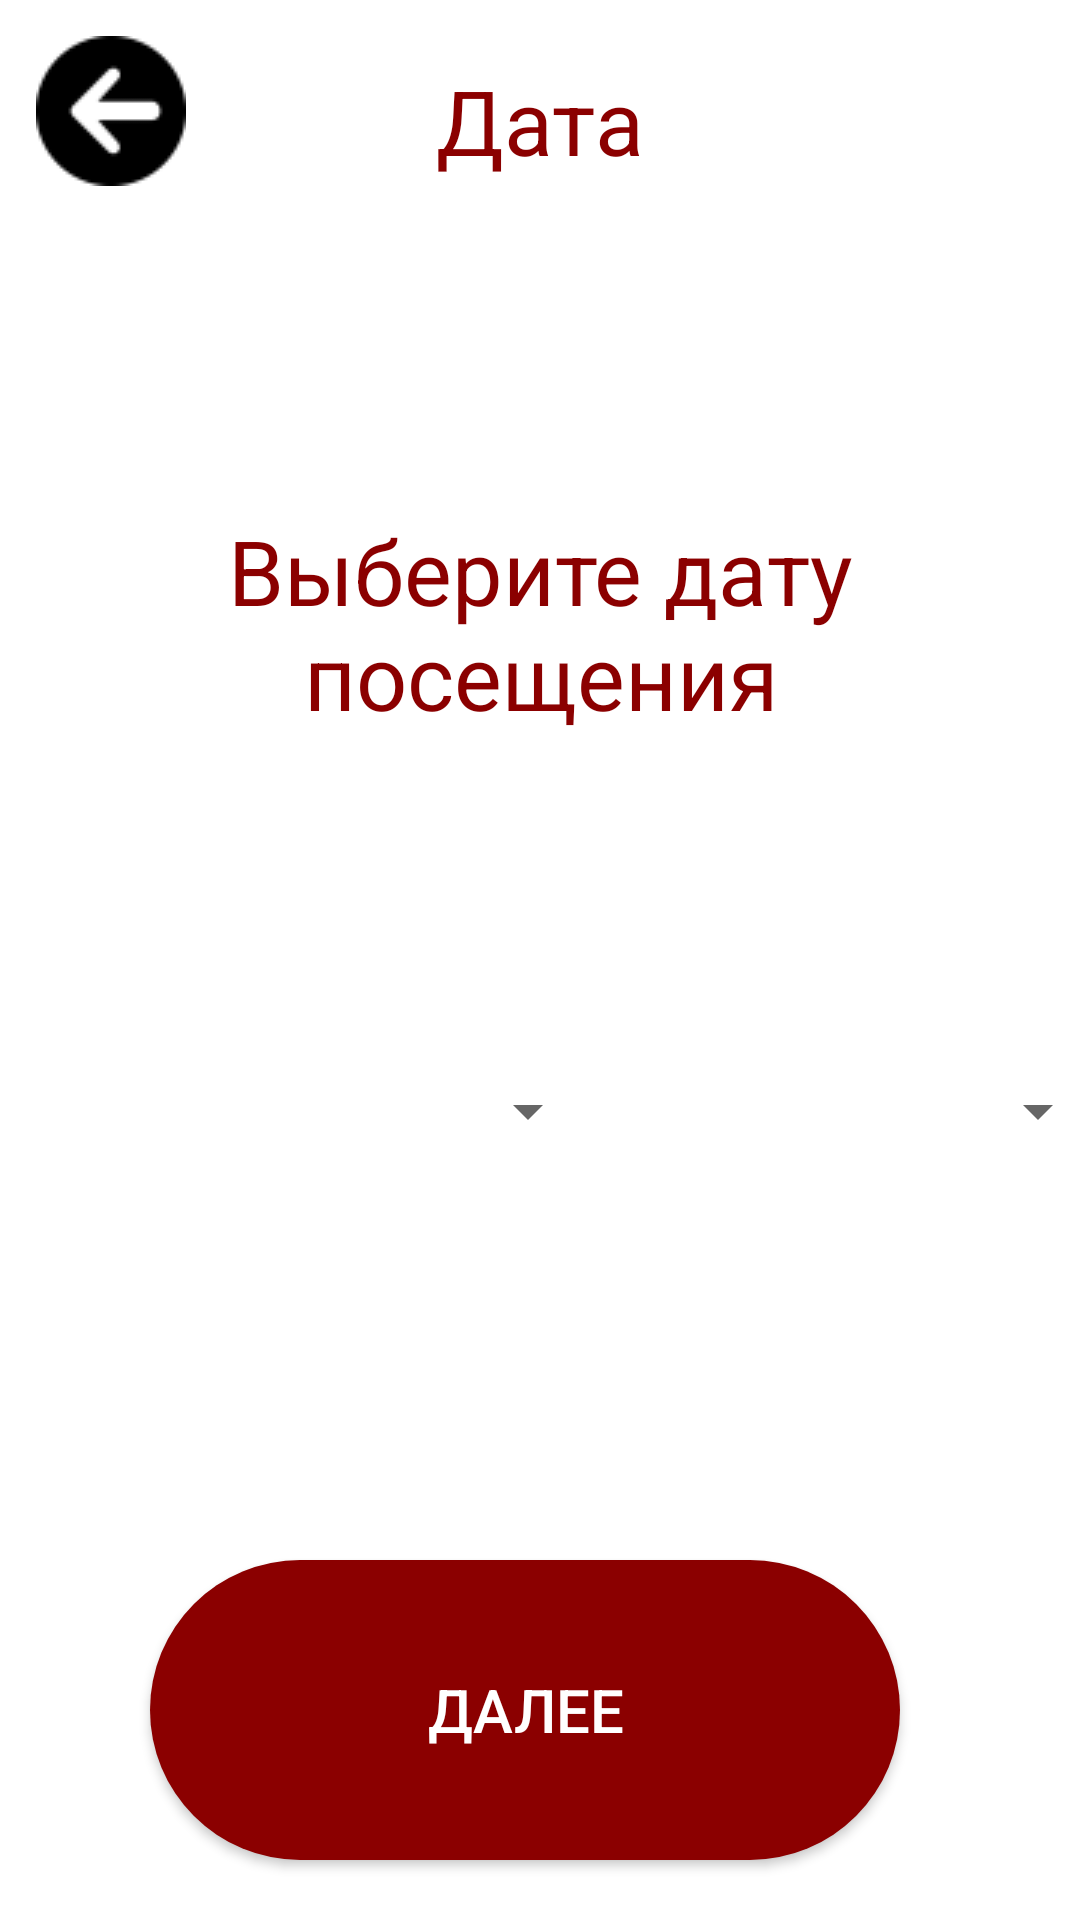

Icons on this 1080 × 1920 Android screen, each with its box as (x1, y1, x2, y2):
back: (36, 36, 186, 186)
